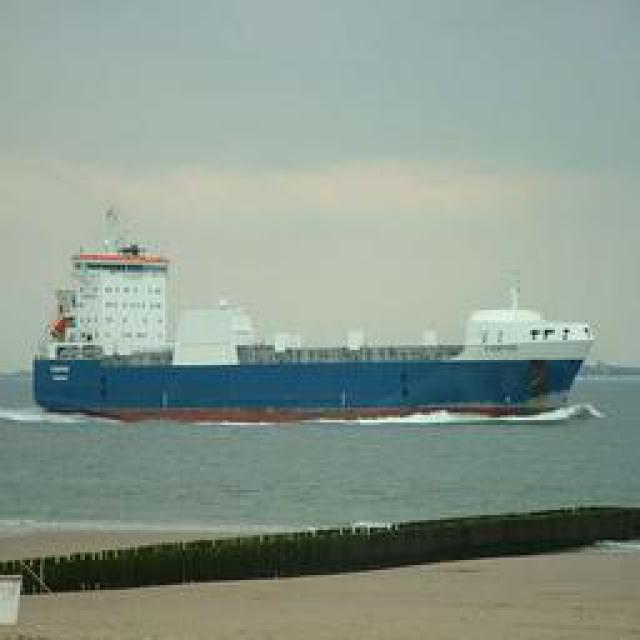Ship: (38, 309, 593, 419)
